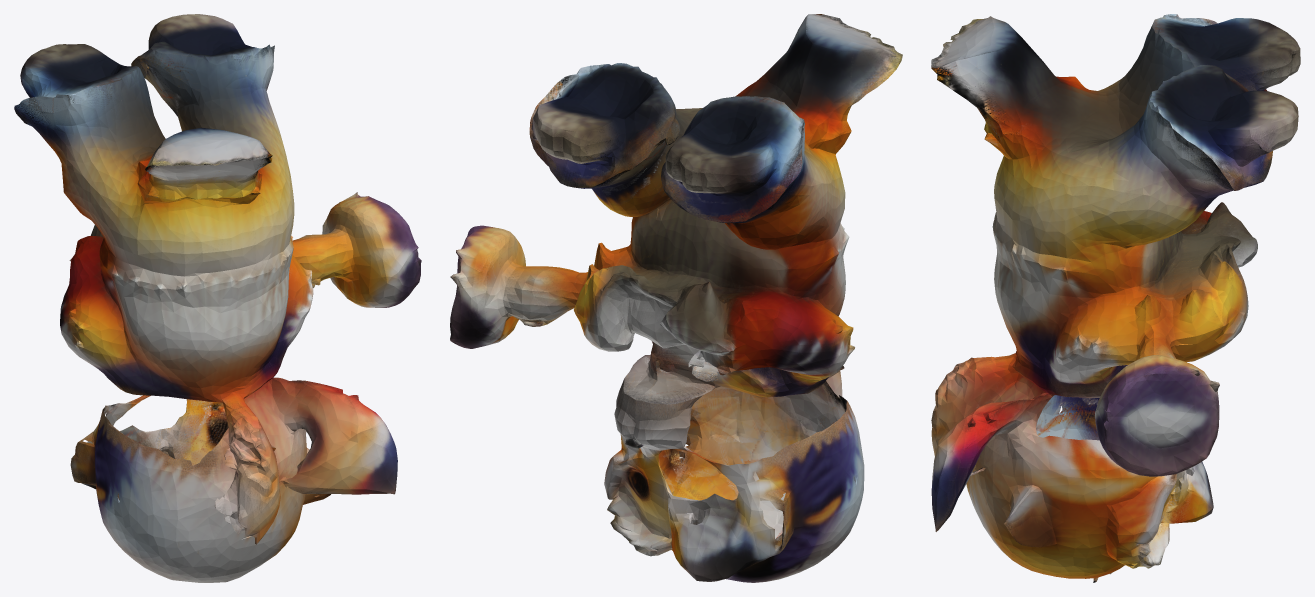
File: edited.glb
The picture shows the model from 3 angles, left to right: view 1: azimuth 30°, elevation 25°; view 2: azimuth 150°, elevation 25°; view 3: azimuth 270°, elevation 25°; orthographic projection. The views are drawn at different scales.
Visible parts, largest first — view 1: world; view 2: world; view 3: world.
Part boxes in pixels (bbox=[...]): world: bbox=[14, 14, 421, 582]; world: bbox=[450, 14, 902, 582]; world: bbox=[931, 14, 1300, 582].
Size of the model in its own units: 0.7192 by 0.9305 by 0.615.
Materials: 1 (1 with a texture image).
